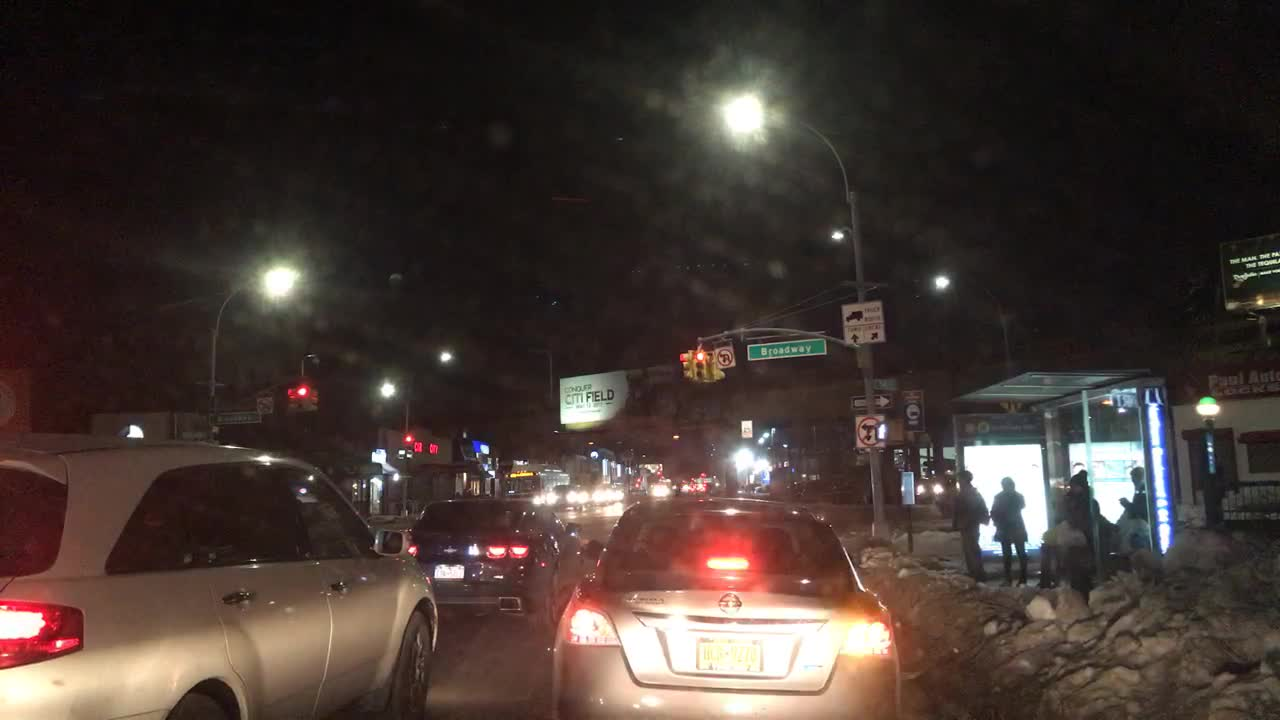car: (0, 431, 441, 718), (549, 495, 900, 718), (408, 492, 591, 631), (913, 472, 952, 502), (534, 487, 570, 512), (567, 487, 597, 510), (621, 489, 648, 507), (747, 484, 771, 499), (607, 486, 631, 501), (736, 482, 757, 496), (648, 481, 666, 496), (592, 489, 612, 502)
person: (1046, 466, 1103, 607), (950, 470, 991, 585), (989, 476, 1030, 588), (1115, 465, 1155, 575), (1095, 501, 1120, 561), (1039, 610, 1049, 612)
traffic light: (873, 419, 902, 446), (706, 346, 724, 381), (692, 350, 708, 381), (675, 351, 691, 381), (294, 384, 309, 414), (284, 385, 296, 413), (306, 386, 318, 411)
traffic sign: (840, 298, 884, 346), (746, 338, 826, 361), (845, 391, 900, 411), (854, 416, 877, 452), (212, 410, 260, 426), (711, 344, 734, 369), (252, 394, 275, 416), (739, 417, 753, 437)
